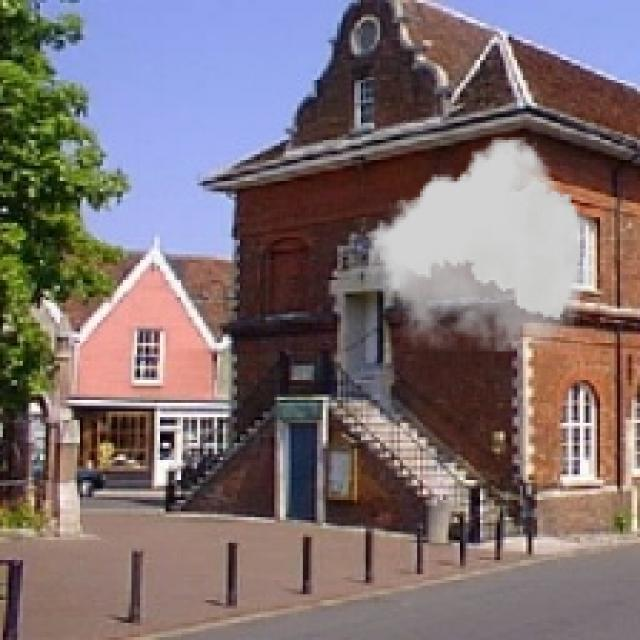Smoke: (368, 137, 592, 352)
